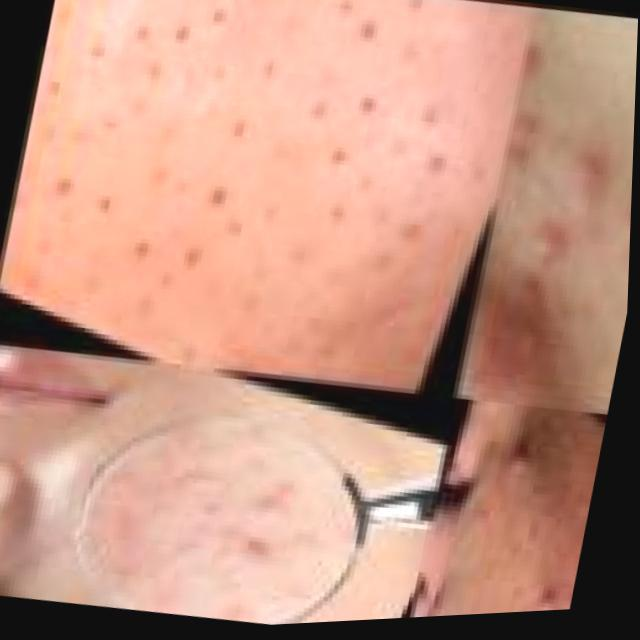cyst: (493, 260, 537, 369)
